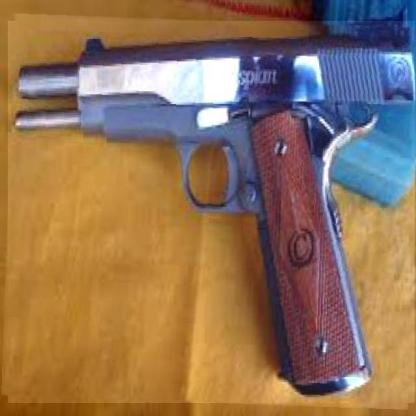handgun: (4, 16, 416, 406)
